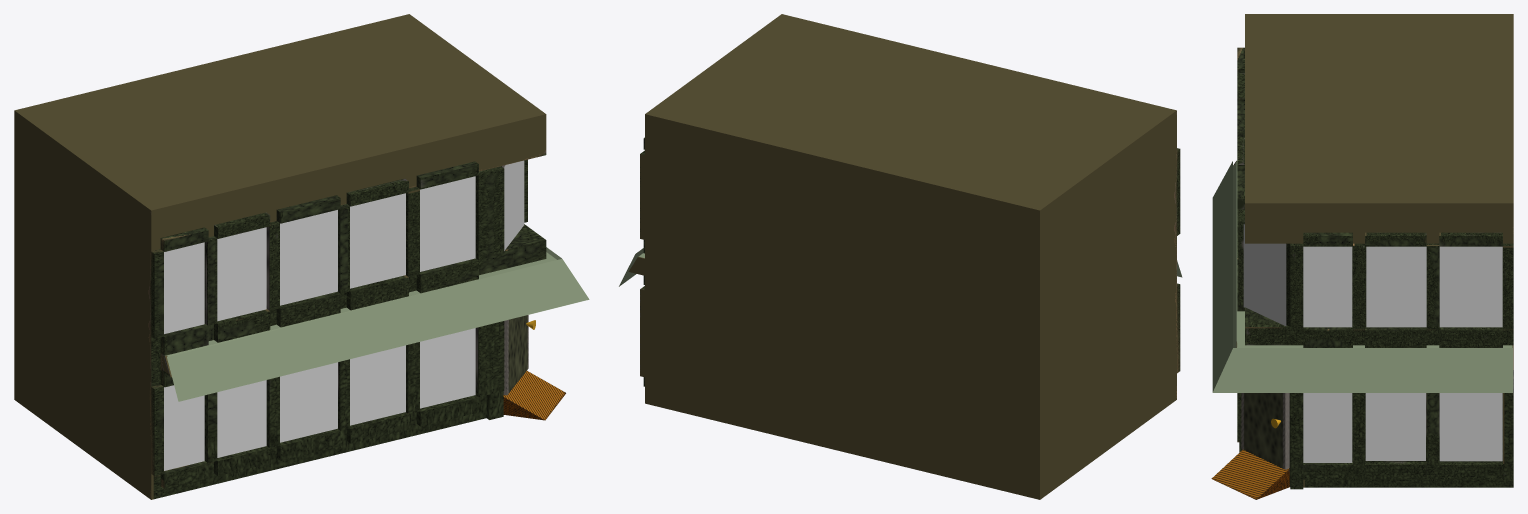
File: 2StoryCafe.fbx
3 renders of one model, left to right at view 1: azimuth 30°, elevation 25°; view 2: azimuth 150°, elevation 25°; view 3: azimuth 270°, elevation 25°, orthographic.
Visible parts, largest first — view 1: BaseBuilding, Plane, Window.008, Window.012, Window.009, Window.007, Window.003, Window.002, Window.001, Window.006, Window.004, Window.005 (+3 smaller); view 2: BaseBuilding; view 3: BaseBuilding, Plane, Window.016, Window.014, Window.017, Window.015, Window.010, Window.013, Window.011, Door, Ramp.
Part boxes in pixels (x1,y1,x2,y2): BaseBuilding: (14, 14, 556, 499); Plane: (167, 247, 589, 401); Window.008: (280, 210, 337, 305); Window.012: (420, 176, 475, 271); Window.009: (350, 193, 405, 288); Window.007: (217, 227, 266, 321); Window.003: (280, 362, 337, 442); Window.002: (420, 328, 475, 408); Window.001: (350, 345, 405, 425); Window.006: (164, 242, 204, 333); Window.004: (217, 380, 266, 457); Window.005: (164, 385, 204, 470); BaseBuilding: (628, 14, 1180, 499); BaseBuilding: (1233, 14, 1513, 489); Plane: (1212, 161, 1512, 392); Window.016: (1439, 246, 1502, 327); Window.014: (1366, 246, 1426, 327); Window.017: (1439, 393, 1502, 461); Window.015: (1365, 393, 1425, 460); Window.010: (1303, 246, 1352, 327); Window.013: (1303, 393, 1352, 462); Window.011: (1243, 224, 1286, 326); Door: (1241, 393, 1289, 469); Ramp: (1211, 450, 1289, 499).
Size of the model in its own units: 534 by 350 by 338.
Materials: 6 (3 with a texture image).
